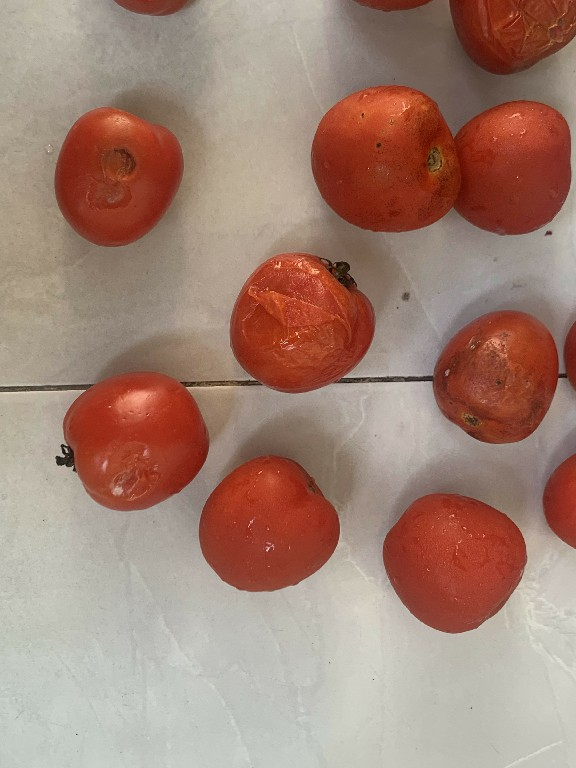NG: (309, 80, 467, 252), (39, 101, 201, 257), (221, 243, 381, 399), (57, 366, 219, 519), (421, 301, 568, 459)
OK: (377, 483, 533, 646), (192, 448, 343, 603), (449, 89, 576, 257)
